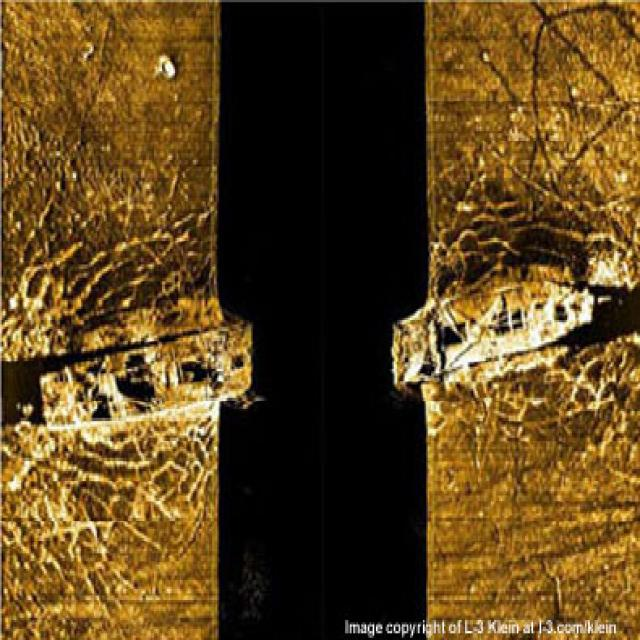ship: (387, 251, 593, 389), (38, 324, 260, 420)
